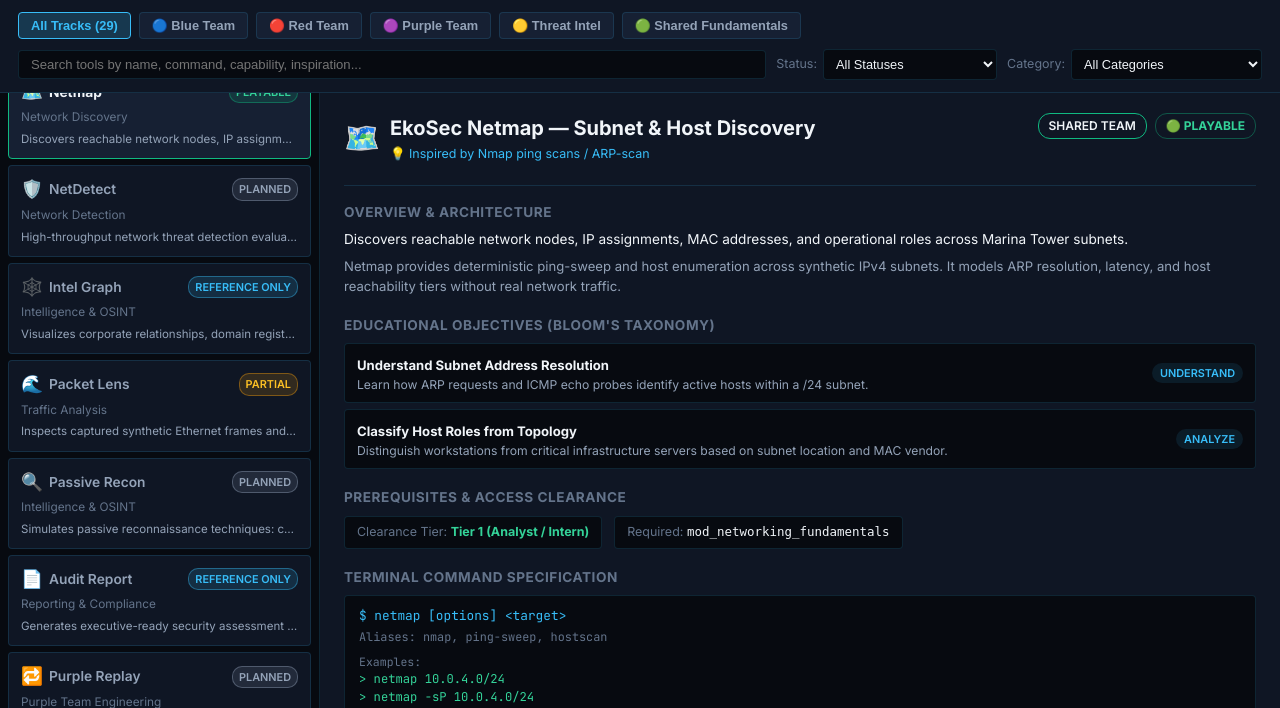
Test: CyberCatalogueApp & CyberArsenalView Integration › displays honest simulation boundaries and limitations for partial tools
(page scrolled)
Select Packet Lens
What coordinates should you click on to do the following:
click the button with test id "tool-item-tool_packet_lens"
I would click on:
 (89, 384)
Its box is [8,360,311,452].
(page scrolled)
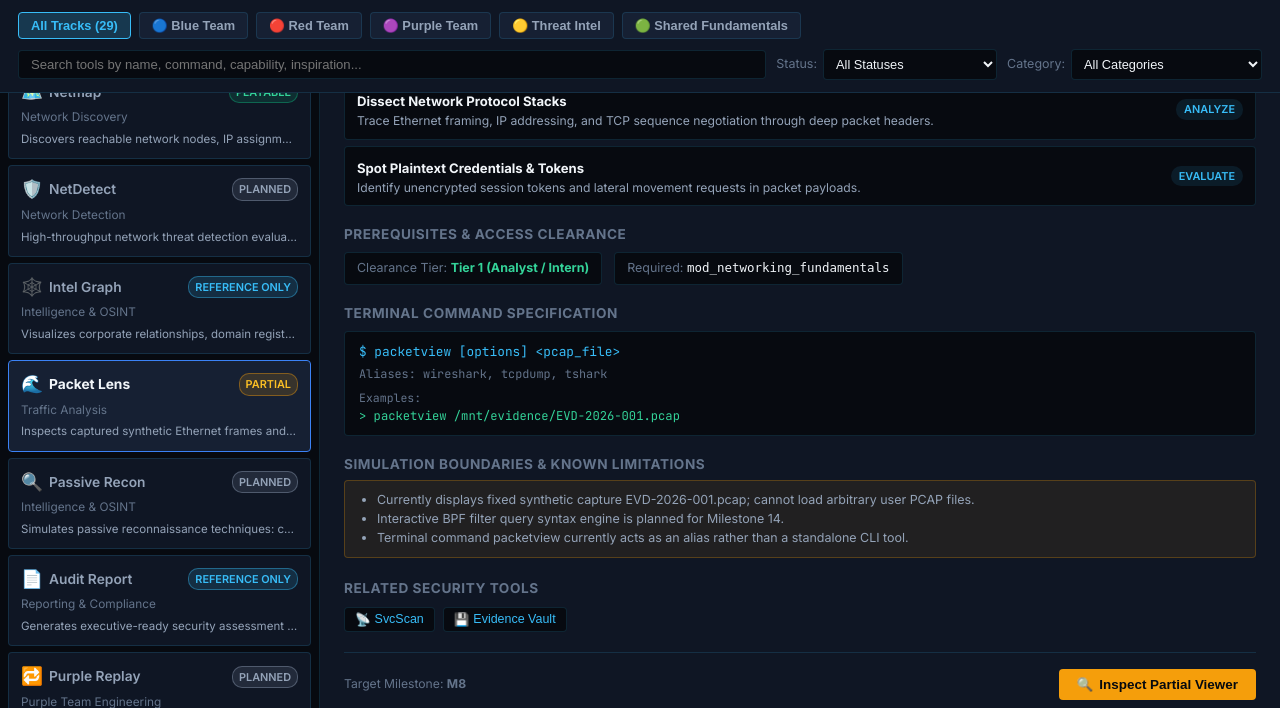
expect the heading "Simulation Boundaries & Known Limitations" is shown: met, box [344,456,705,472]
expect the list item "Currently displays fixed synthetic capture EVD-2026-001.pcap" is shown: met, box [377,492,975,507]
